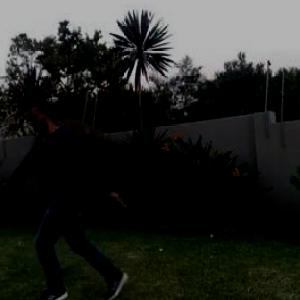land: (1, 82, 150, 299)
